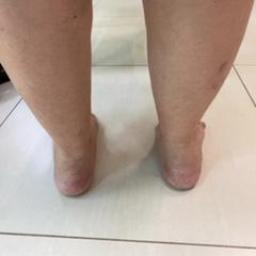Back View -Both Feet-: (14, 93, 231, 209)
